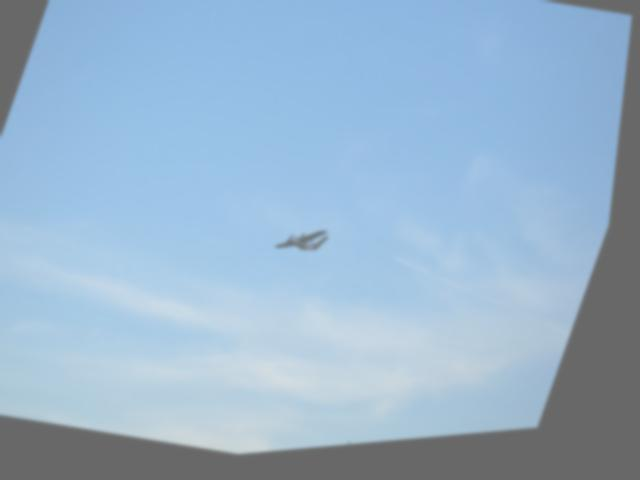plane: (280, 226, 339, 266)
